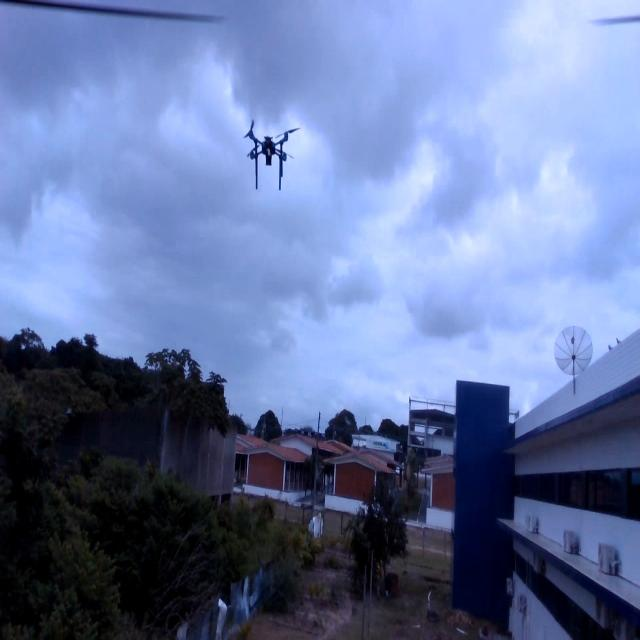-uav-: (237, 120, 299, 197)
